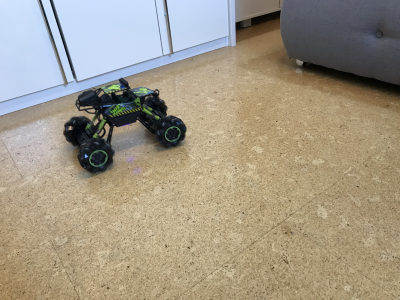remote control car: (54, 74, 188, 175)
